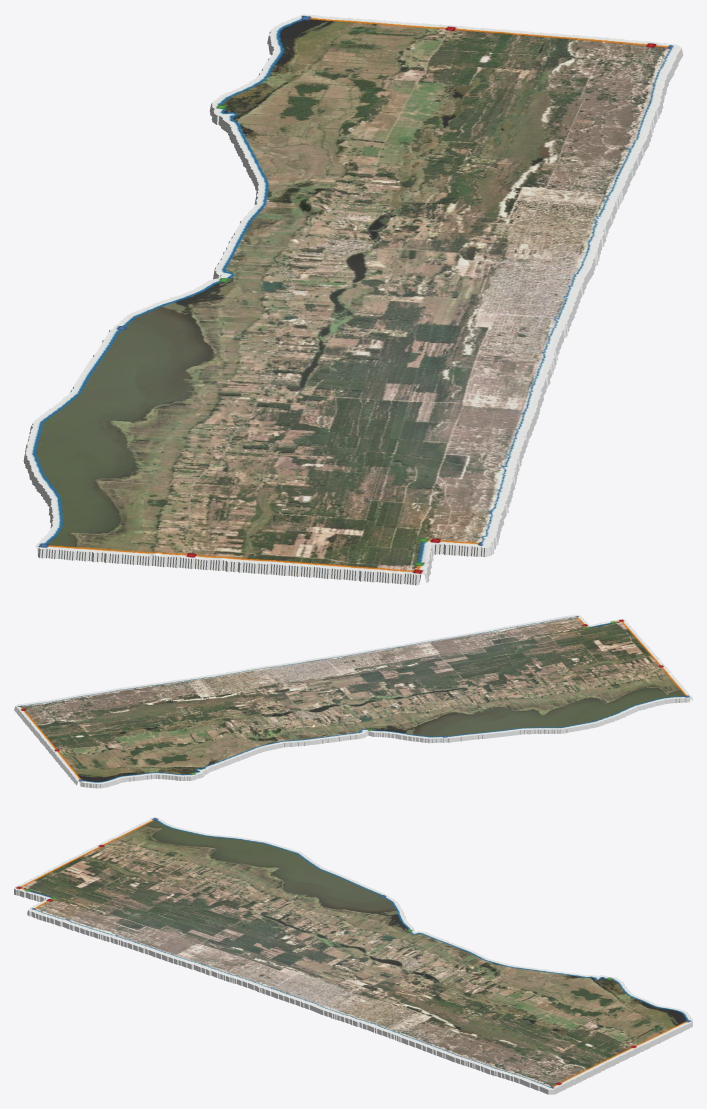
3 renders of one model, top to bottom at view 1: azimuth 30°, elevation 25°; view 2: azimuth 150°, elevation 25°; view 3: azimuth 270°, elevation 25°, orthographic. The views are drawn at different scales.
Size of the model in its own units: 1 by 0.0141 by 1.05.
1 material, 1 textured.
